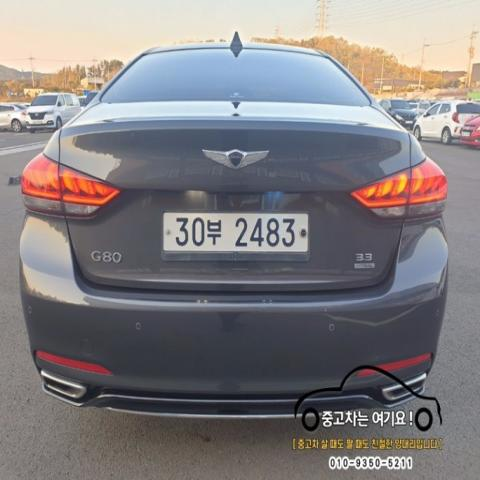LP: (160, 207, 314, 260)
